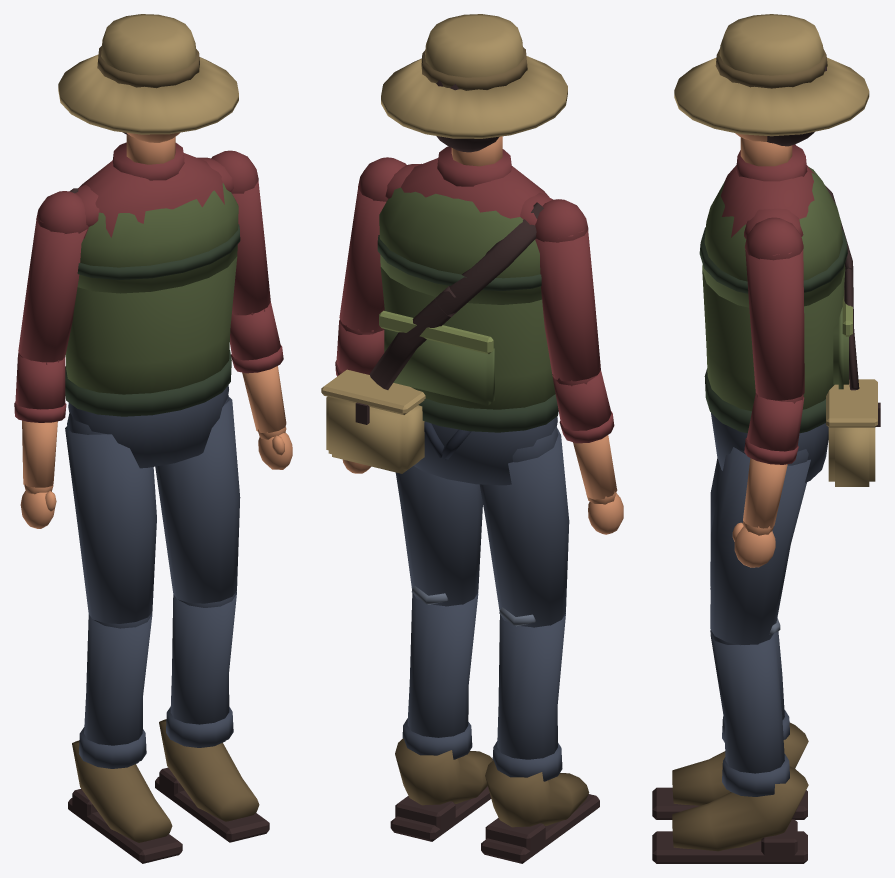
Rendered from angler.fbx.
The picture shows the model from 3 angles, left to right: view 1: azimuth 30°, elevation 25°; view 2: azimuth 150°, elevation 25°; view 3: azimuth 270°, elevation 25°; orthographic projection. The views are drawn at different scales.
Parts seen in each view (by area): view 1: geo_Spine, geo_Chest, geo_Head, geo_Thigh.R, geo_Thigh.L, geo_Shin.R, geo_Shin.L, geo_UpperArm.R, geo_Foot.R, geo_Foot.L, geo_Hips, geo_ForeArm.R (+6 smaller); view 2: geo_Spine, geo_Chest, geo_Head, geo_Thigh.R, geo_Shin.R, geo_Thigh.L, geo_Shin.L, geo_UpperArm.R, geo_Foot.R, geo_Foot.L, geo_UpperArm.L, geo_Hips (+4 smaller); view 3: geo_Head, geo_Spine, geo_Chest, geo_Thigh.L, geo_Foot.L, geo_UpperArm.L, geo_Shin.L, geo_ForeArm.L, geo_Foot.R, geo_Hips, geo_Hand.L, geo_Neck (+3 smaller).
Part boxes in pixels (x1,y1,x2,y2): geo_Spine: (65, 256, 237, 416); geo_Chest: (70, 142, 240, 293); geo_Head: (58, 14, 238, 142); geo_Thigh.R: (65, 412, 156, 623); geo_Thigh.L: (155, 395, 240, 603); geo_Shin.R: (79, 612, 152, 768); geo_Shin.L: (166, 591, 236, 747); geo_UpperArm.R: (18, 191, 88, 362); geo_Foot.R: (68, 740, 182, 863); geo_Foot.L: (155, 719, 269, 842); geo_Hips: (68, 385, 228, 468); geo_ForeArm.R: (14, 352, 66, 487); geo_Spine: (321, 267, 558, 473); geo_Chest: (377, 146, 548, 317); geo_Head: (381, 14, 567, 152); geo_Thigh.R: (479, 426, 569, 627); geo_Shin.R: (492, 612, 565, 781); geo_Thigh.L: (395, 466, 482, 606); geo_Shin.L: (402, 591, 478, 759); geo_UpperArm.R: (535, 199, 600, 381); geo_Foot.R: (481, 760, 599, 863); geo_Foot.L: (390, 738, 492, 841); geo_UpperArm.L: (339, 157, 406, 332); geo_Hips: (413, 416, 557, 485); geo_Head: (674, 14, 869, 146); geo_Spine: (702, 248, 880, 486); geo_Chest: (699, 144, 852, 307); geo_Thigh.L: (710, 447, 810, 644); geo_Foot.L: (652, 766, 808, 863); geo_UpperArm.L: (744, 217, 804, 400); geo_Shin.L: (710, 630, 789, 796); geo_ForeArm.L: (743, 393, 804, 528); geo_Foot.R: (652, 722, 808, 819); geo_Hips: (711, 413, 828, 482); geo_Hand.L: (732, 521, 775, 567); geo_Neck: (740, 137, 792, 166).
Size of the model in its own units: 0.6116 by 1.72 by 0.44.
